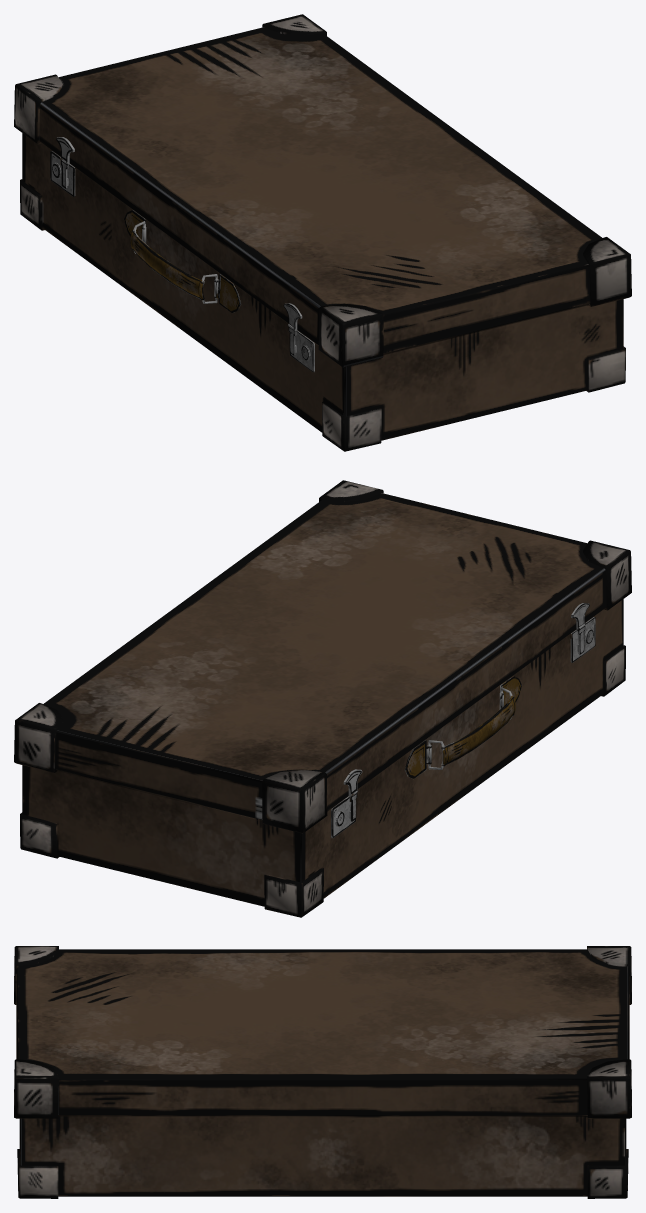
The model's file is O_Pack_L_VF.fbx.
3 renders of one model, top to bottom at view 1: azimuth 30°, elevation 25°; view 2: azimuth 150°, elevation 25°; view 3: azimuth 270°, elevation 25°, orthographic. The views are drawn at different scales.
Visible parts, largest first — view 1: MaletaGrandeDecoracion; view 2: MaletaGrandeDecoracion; view 3: MaletaGrandeDecoracion.
Boxes of the visible parts, left/top/right/bottom form: MaletaGrandeDecoracion: left=14, top=14, right=631, bottom=451; MaletaGrandeDecoracion: left=14, top=480, right=631, bottom=917; MaletaGrandeDecoracion: left=14, top=946, right=631, bottom=1198.
Size of the model in its own units: 28.21 by 11.5 by 52.14.
